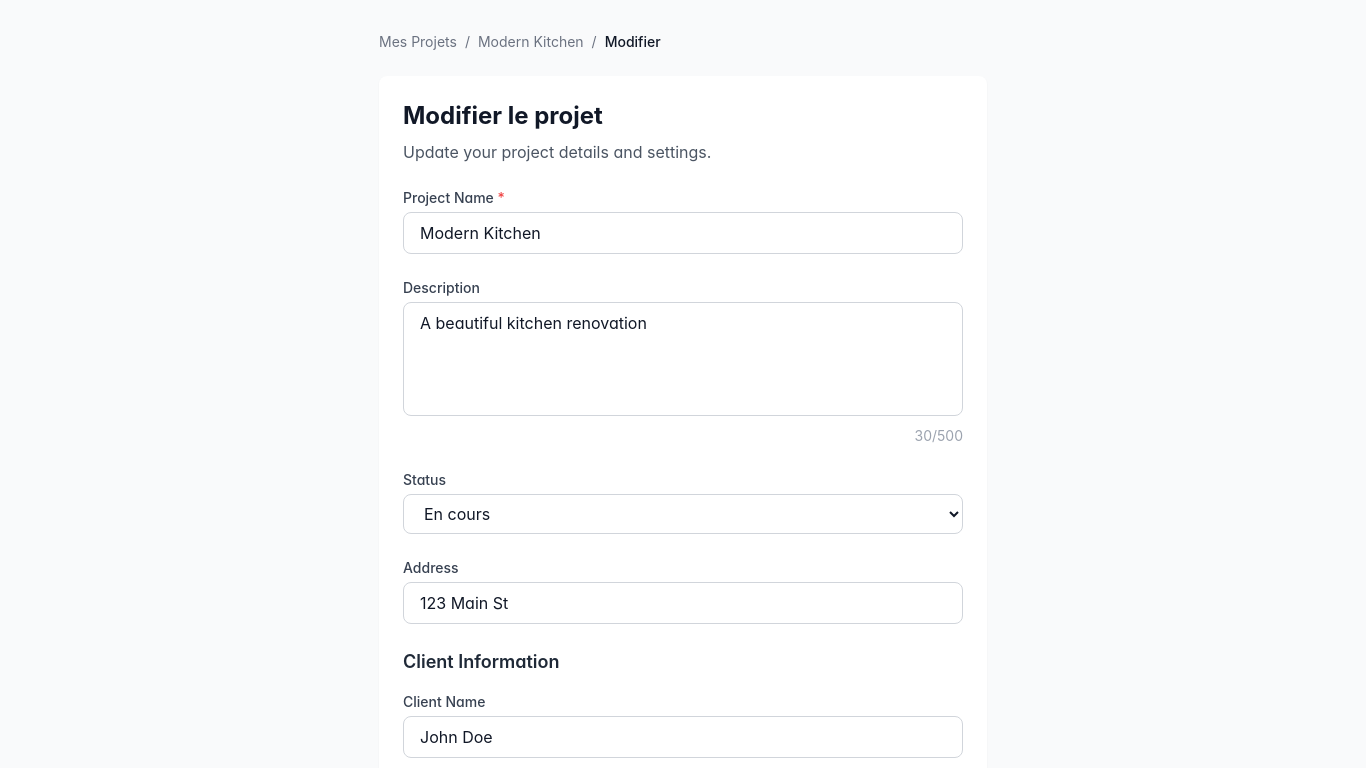
Scenario: ProjectEdit › Navigation and Unsaved Changes Modal › should show unsaved changes modal when cancel clicked on dirty form
This screenshot has width=1366, height=768.
Type " change" into the field labelled "Project Name *". click: (683, 233)
box: [403, 212, 963, 254]
(page scrolled)
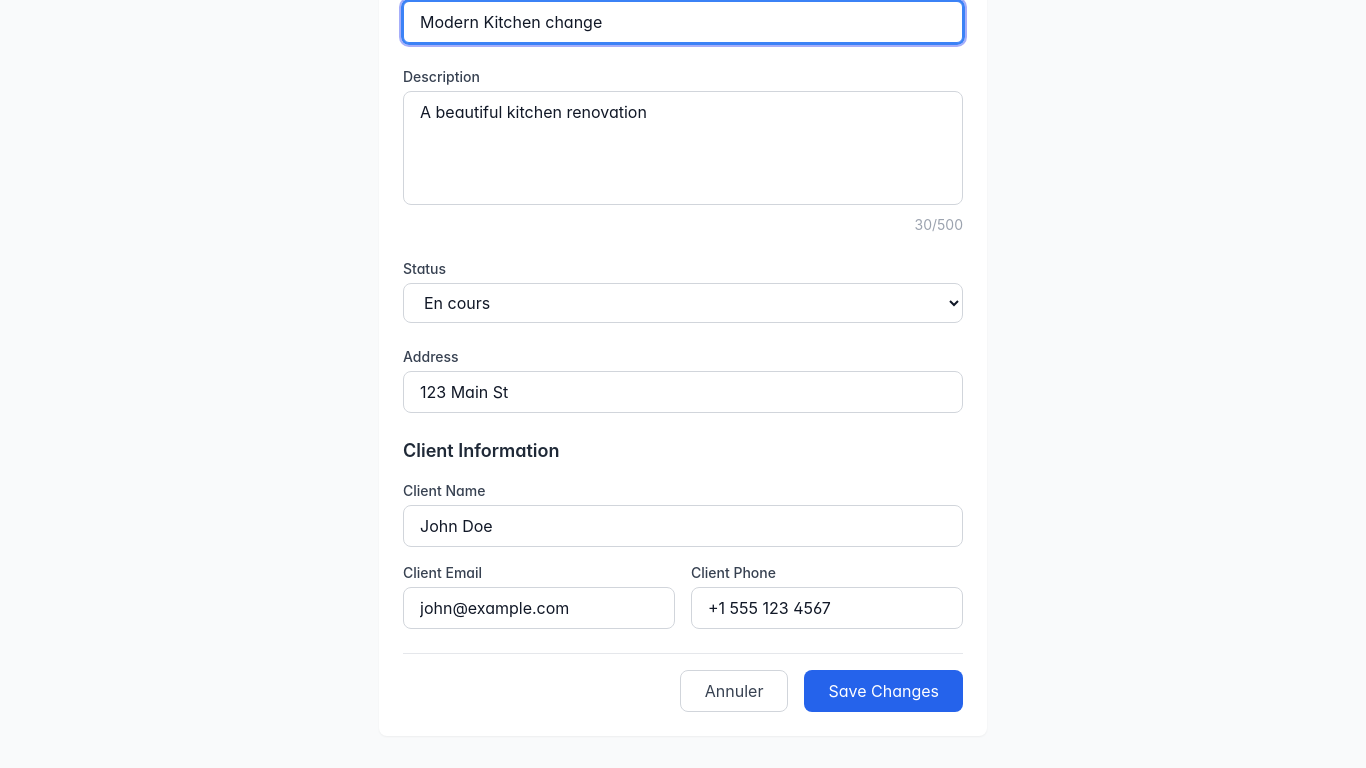
Click the button "Annuler". click: (734, 691)
box: [680, 670, 788, 712]
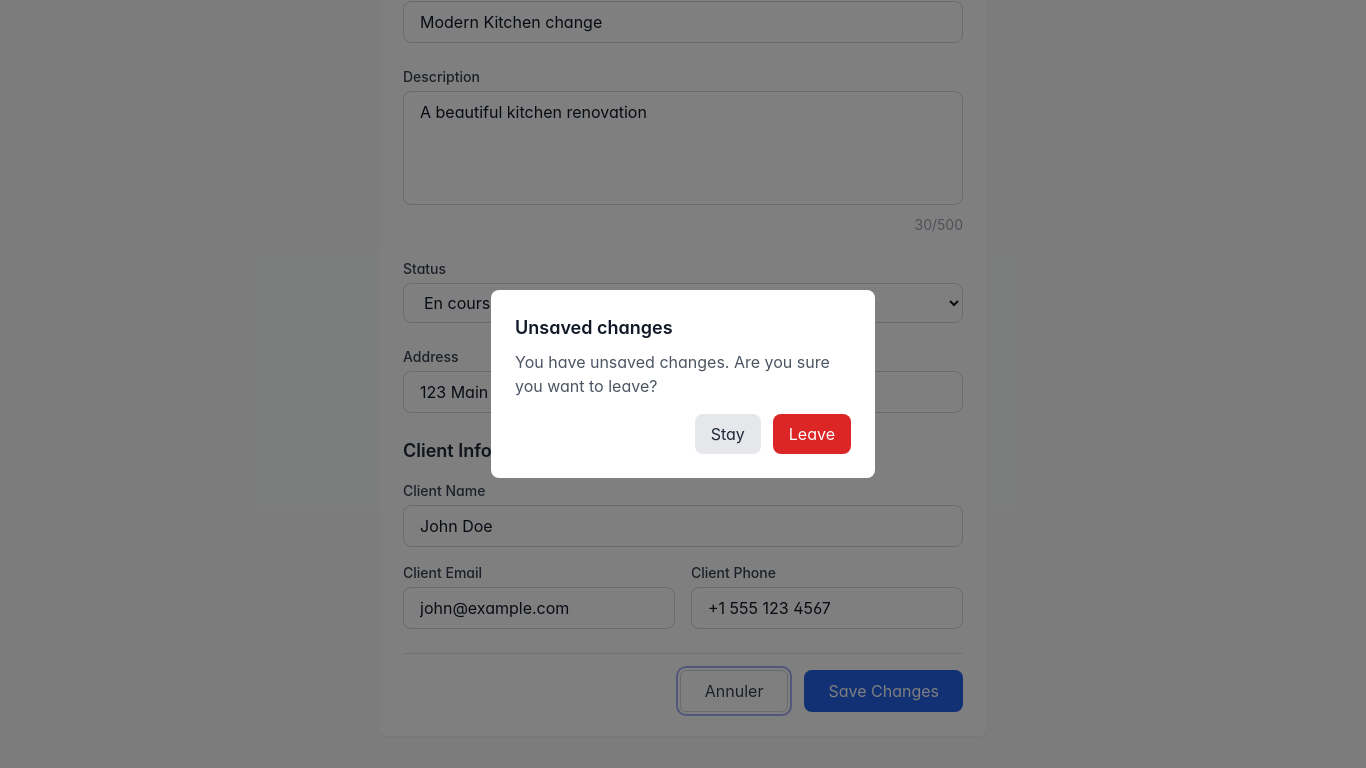
expect the dialog is shown: met
expect the heading "Unsaved changes" is shown: met, box [515, 317, 673, 338]
